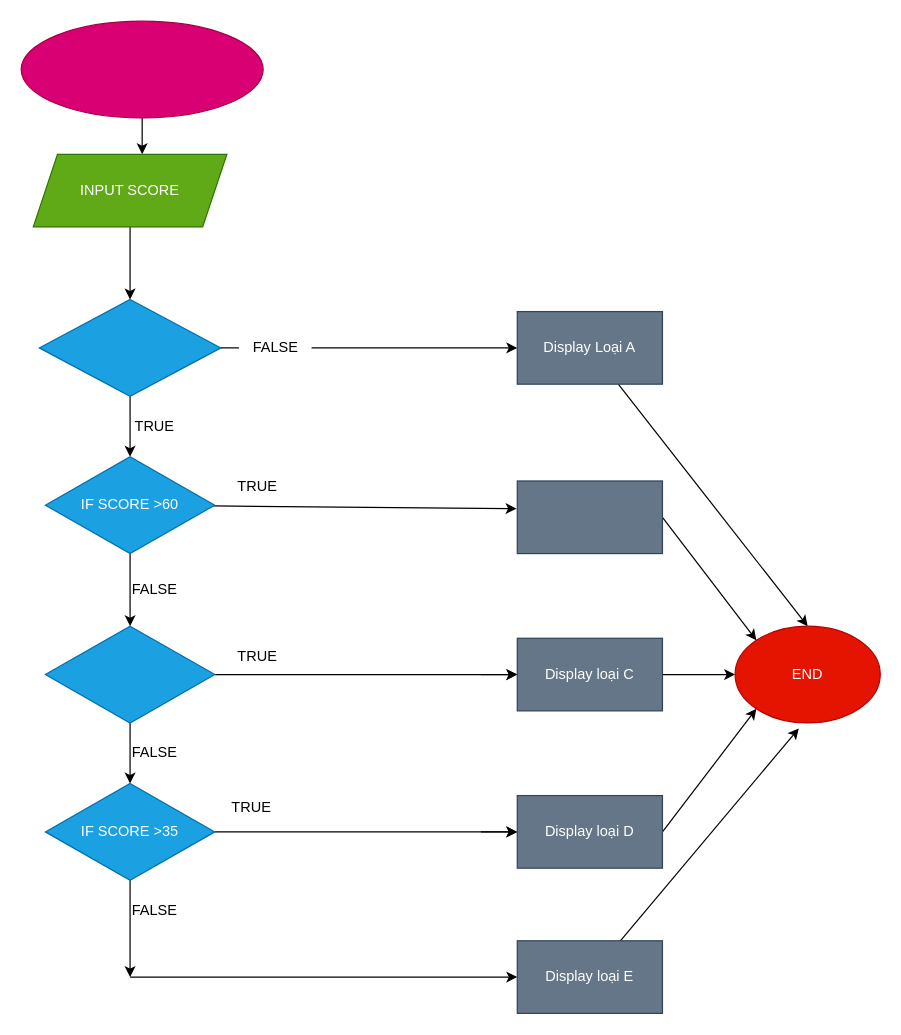
This 901x1035 diagram has some shape labels left out. Each missing label, with the centre of its shape:
"Display loại B" belongs at (589,517).
"IF SCORE >45" belongs at (129,674).
"IF SCORE<75" belongs at (129,347).
"START" belongs at (141,69).
